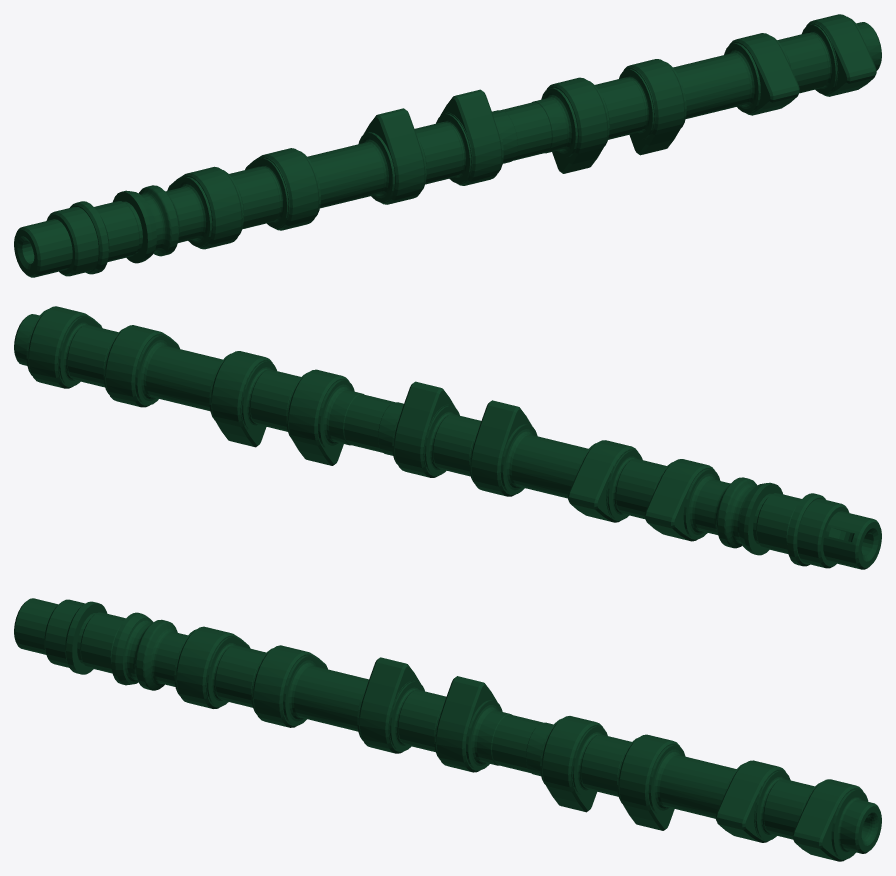
The model's file is Распределительный вал.obj.
The picture shows the model from 3 angles, top to bottom: view 1: azimuth 30°, elevation 25°; view 2: azimuth 150°, elevation 25°; view 3: azimuth 330°, elevation 25°; orthographic projection.
Visible parts, largest first — view 1: Распределительный_вал; view 2: Распределительный_вал; view 3: Распределительный_вал.
Part boxes in pixels (bbox=[...]): Распределительный_вал: bbox=[14, 14, 881, 277]; Распределительный_вал: bbox=[14, 306, 881, 569]; Распределительный_вал: bbox=[14, 598, 881, 861].
Size of the model in its own units: 411 by 47.75 by 47.75.
